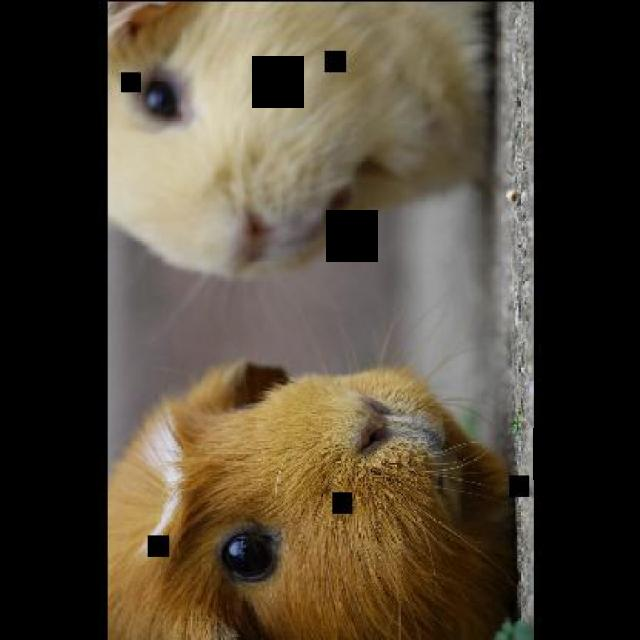unauthorized: (106, 356, 519, 638), (106, 0, 499, 280)
